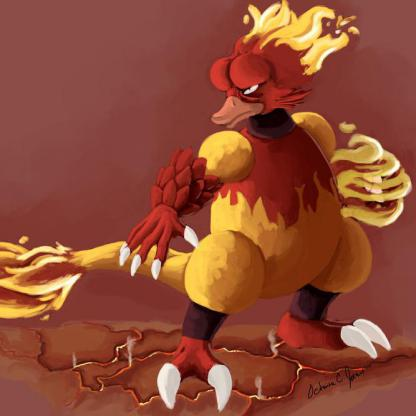Magmar: (71, 14, 416, 416)
